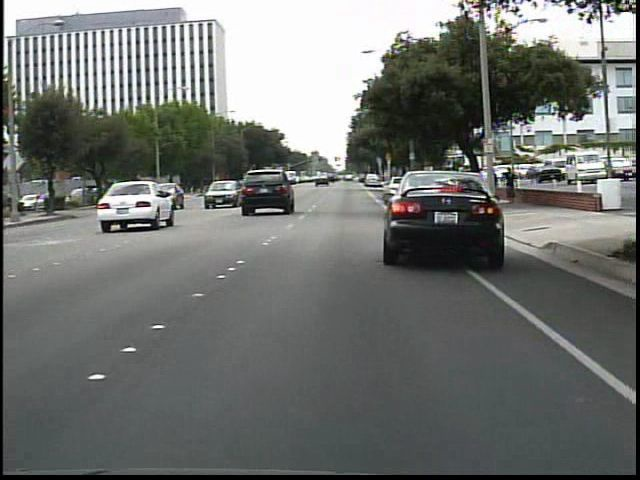person: (503, 165, 521, 207), (488, 168, 503, 205)
